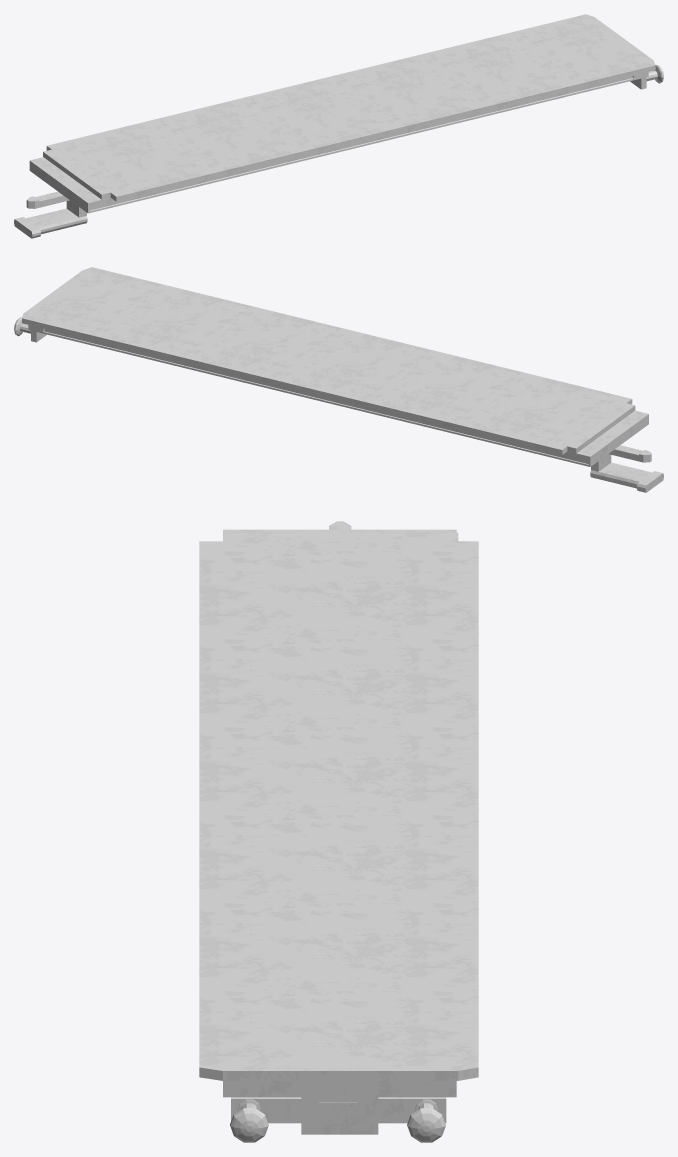
File: Steam Train Coach Frame_A_001.fbx
3 views of the same model, one above another, from view 1: azimuth 30°, elevation 25°; view 2: azimuth 150°, elevation 25°; view 3: azimuth 270°, elevation 25° (orthographic). The views are drawn at different scales.
Visible parts, largest first — view 1: Steam_Train_Coach_Frame_A_001; view 2: Steam_Train_Coach_Frame_A_001; view 3: Steam_Train_Coach_Frame_A_001.
Part boxes in pixels (x1,y1,x2,y2): Steam_Train_Coach_Frame_A_001: [14, 14, 663, 238]; Steam_Train_Coach_Frame_A_001: [14, 267, 663, 492]; Steam_Train_Coach_Frame_A_001: [199, 521, 478, 1142].
Size of the model in its own units: 683 by 50.34 by 134.
1 material, 1 textured.
